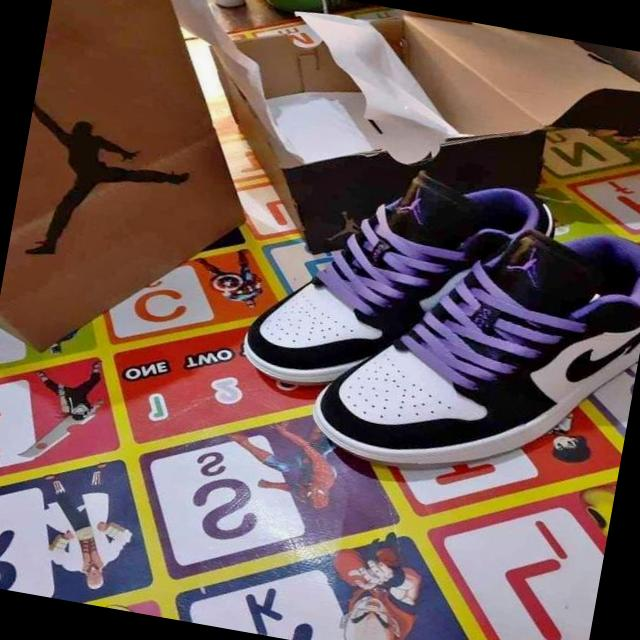nike_fake_jordan: (308, 192, 640, 507), (237, 138, 556, 424)
